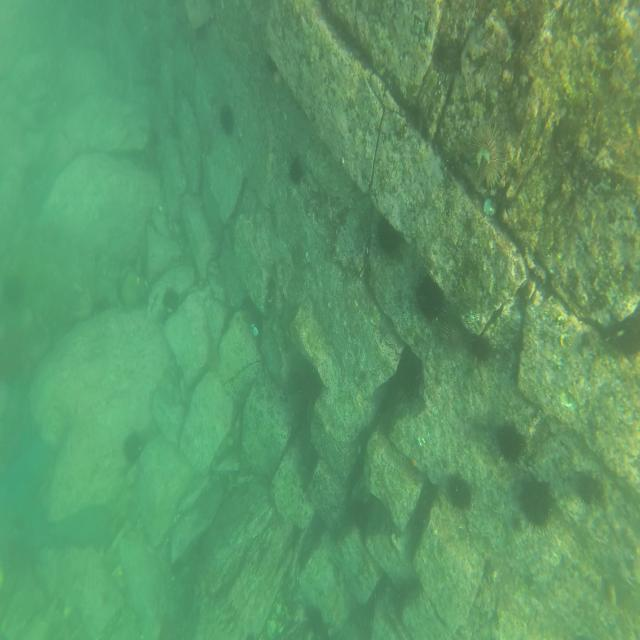echinus: (461, 110, 510, 194), (518, 477, 556, 536), (416, 264, 448, 326), (494, 414, 530, 466), (375, 206, 408, 260), (445, 469, 475, 511), (122, 433, 148, 467), (286, 150, 306, 192), (217, 101, 237, 141), (574, 473, 596, 509), (161, 285, 183, 314)
